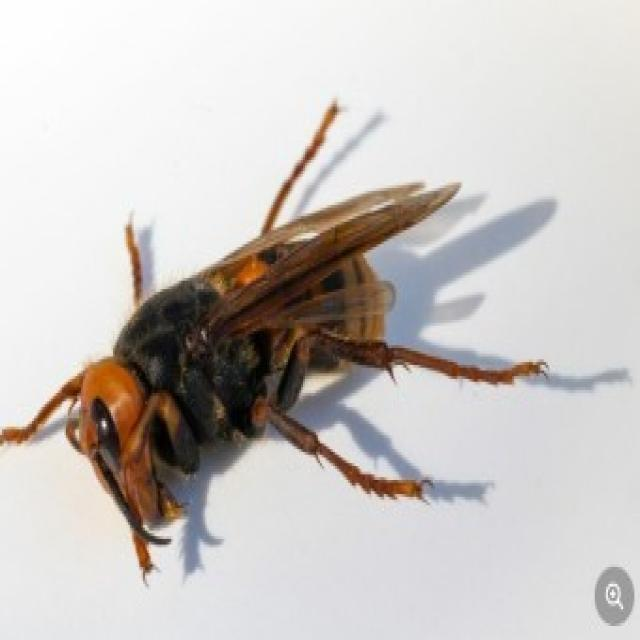Wasp: (3, 100, 552, 584)
